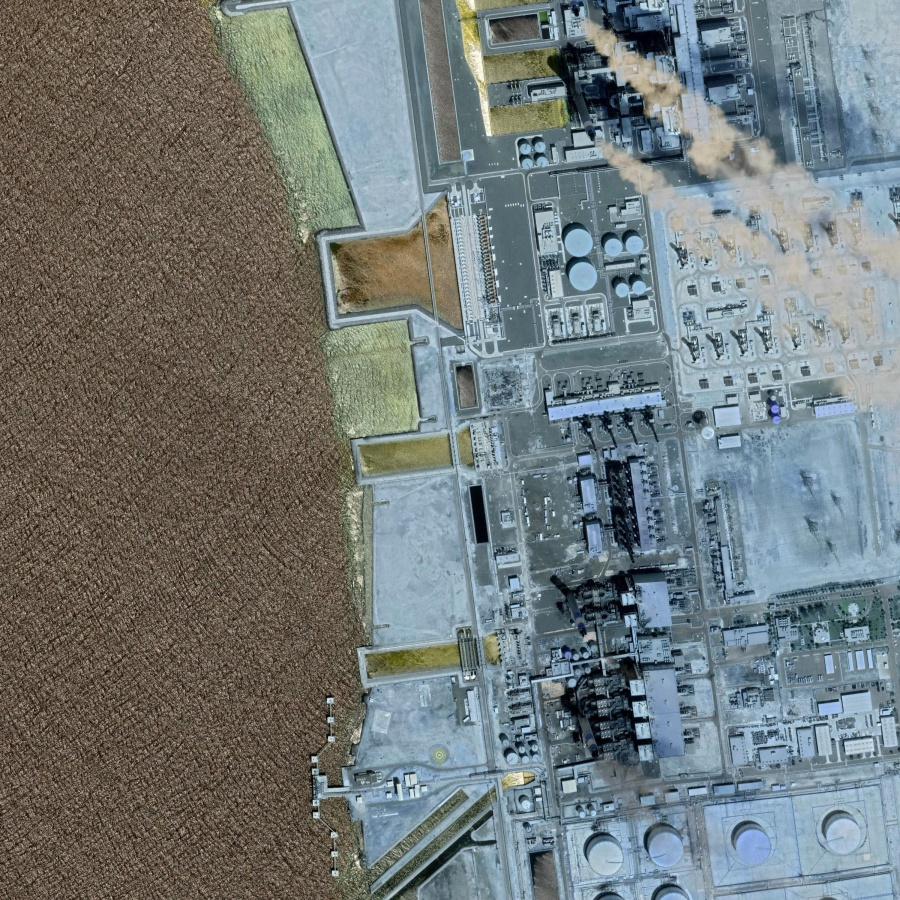PowerPlant: (497, 447, 719, 763)
